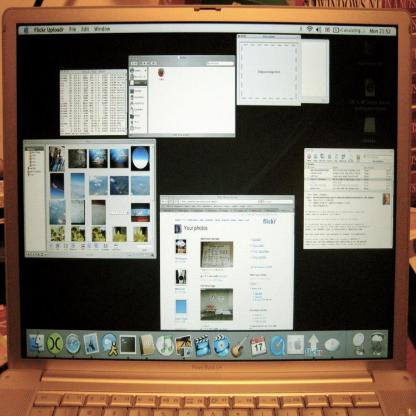board: (1, 3, 416, 416)
